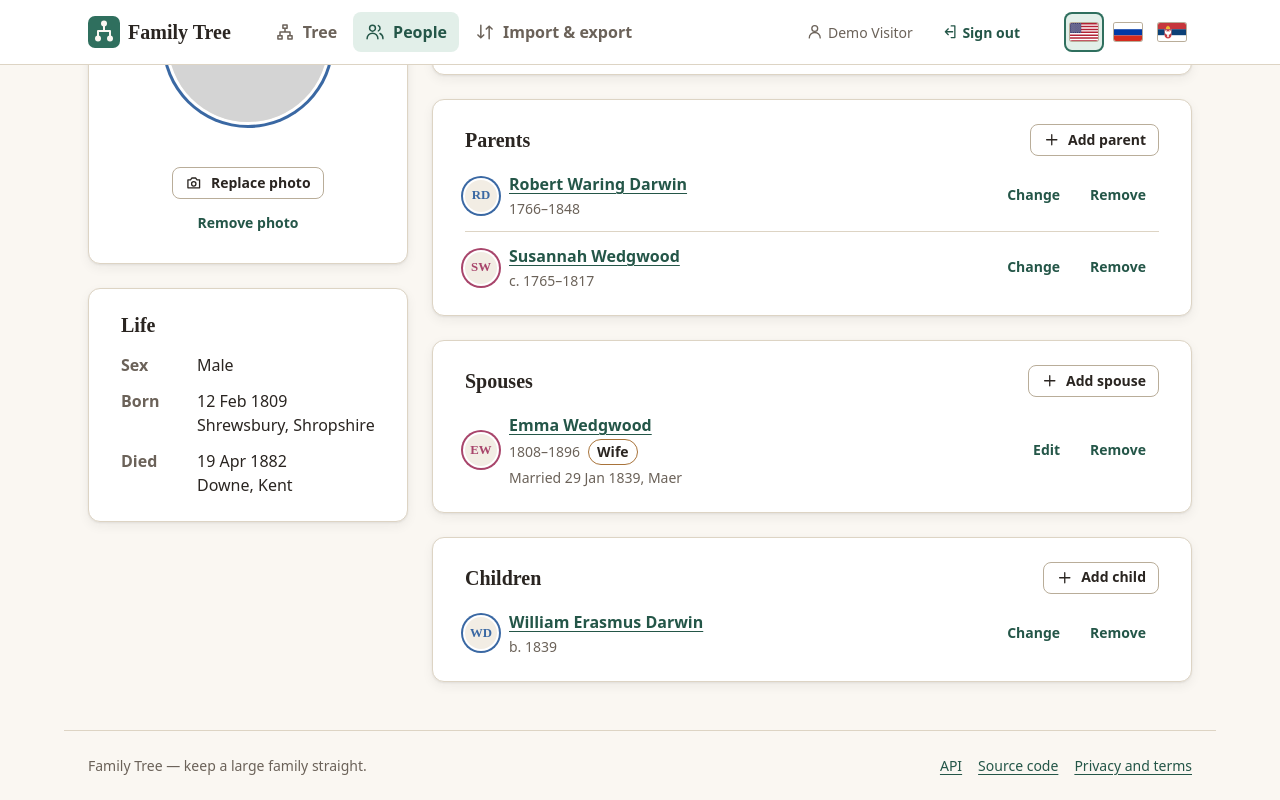
Test: removing a marriage asks for confirmation
(page scrolled)
Step 1. Click the button named "Remove Emma Wedgwood" → (1118, 450), box left=1077, top=434, right=1159, bottom=466
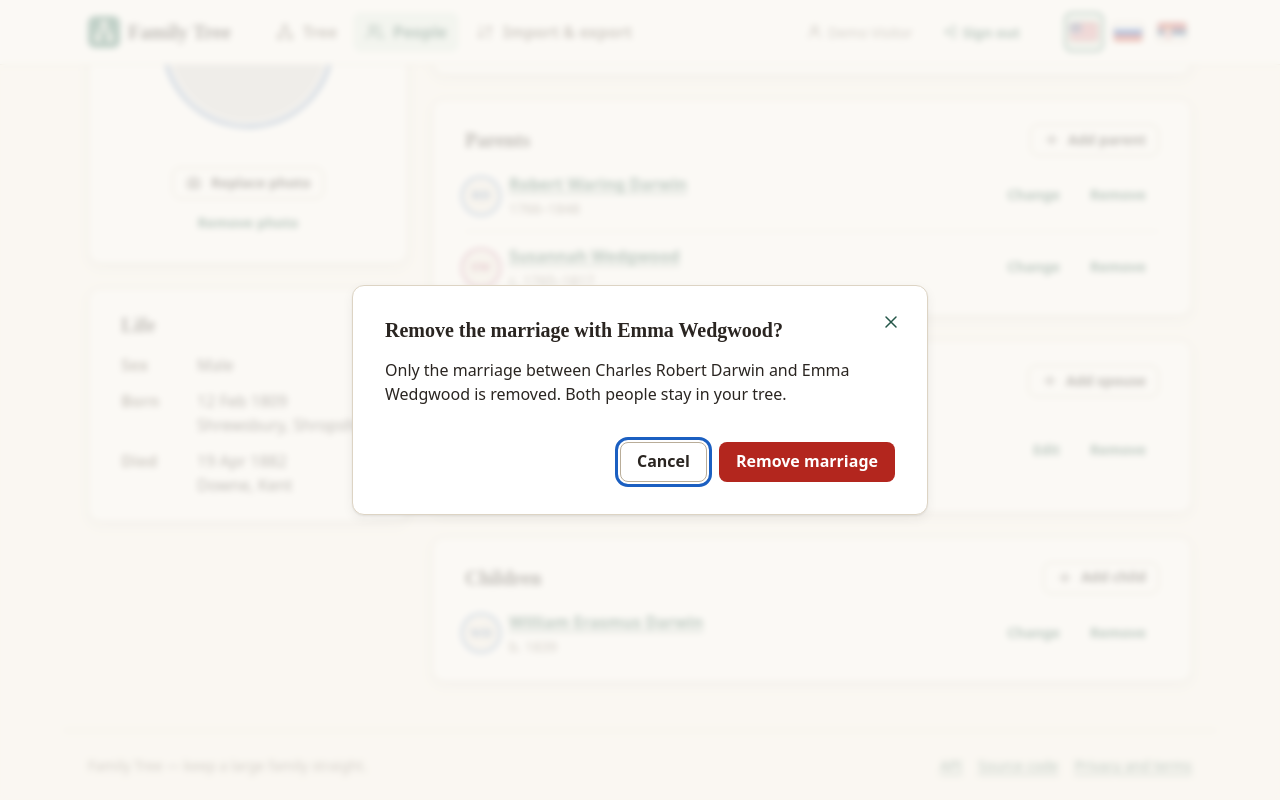
Step 2. Click the button "Remove marriage" → (807, 462), box left=719, top=442, right=895, bottom=482
(page scrolled)
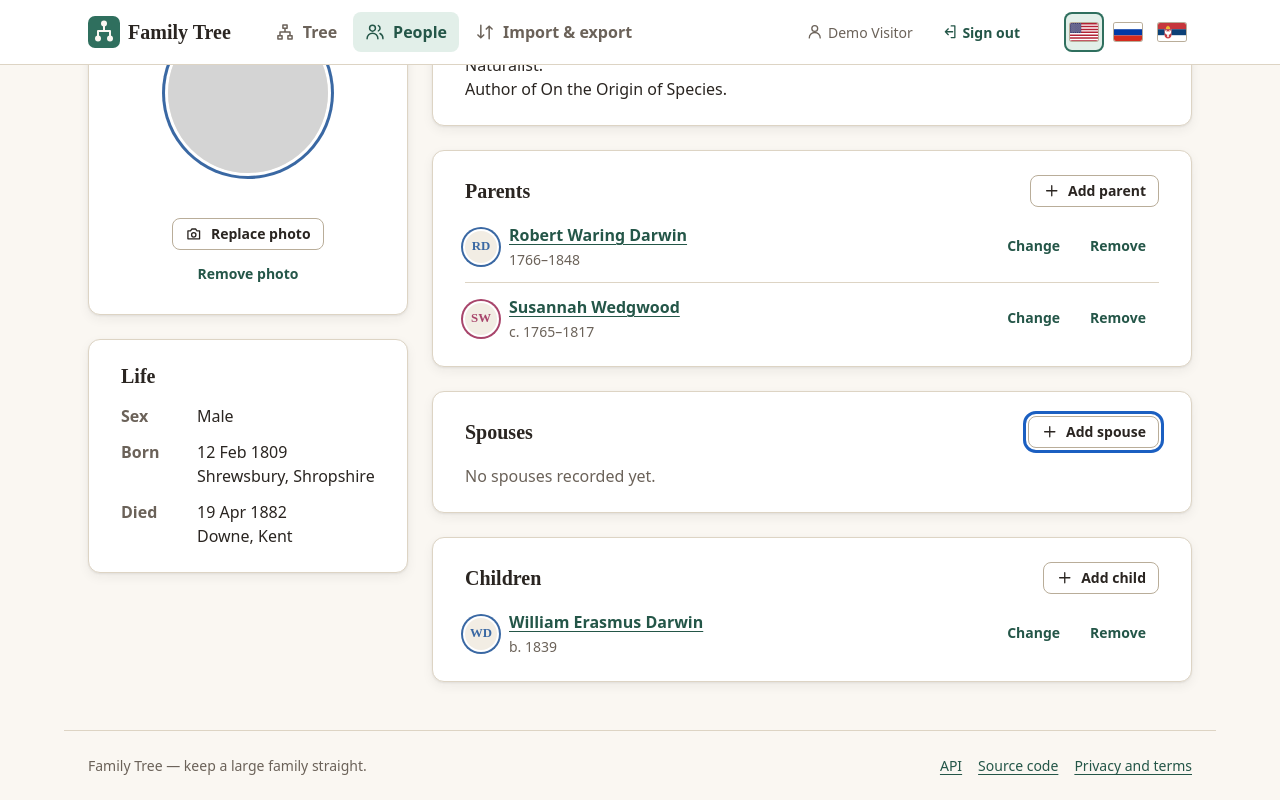
Expected: the text "No spouses recorded yet." is shown, left=465, top=465, right=656, bottom=487
